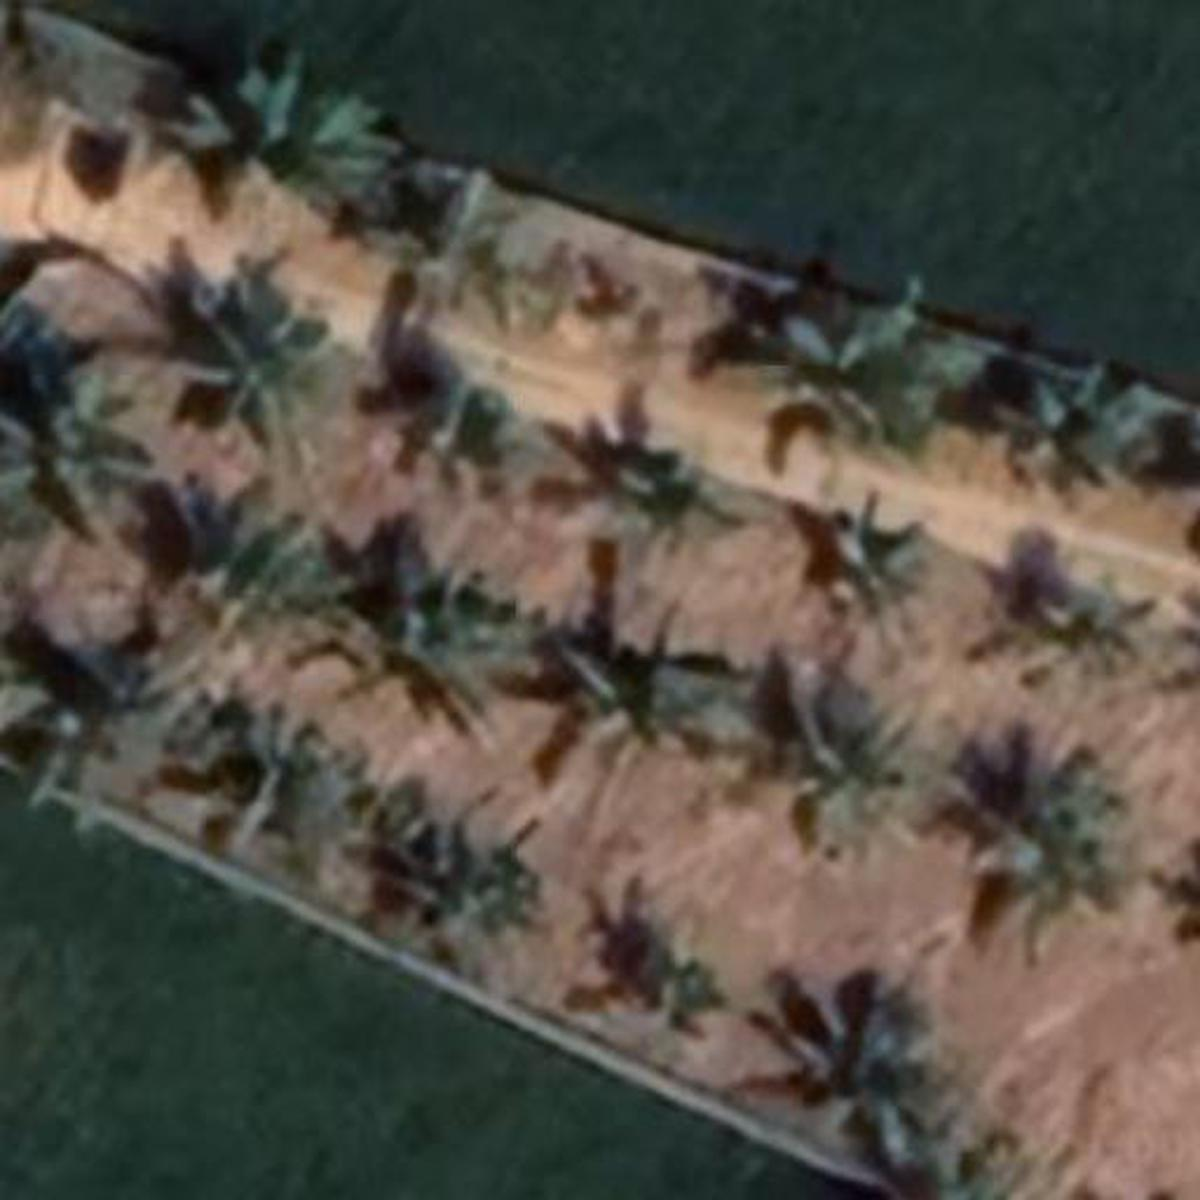coconut: (164, 44, 407, 236), (192, 682, 389, 900), (142, 262, 353, 454), (2, 616, 175, 836), (958, 766, 1132, 963), (757, 646, 925, 841), (785, 1016, 984, 1174), (778, 281, 951, 462), (180, 478, 349, 656), (382, 564, 548, 733), (2, 356, 145, 543), (548, 623, 724, 775), (379, 185, 557, 327), (1007, 337, 1167, 496), (1014, 543, 1164, 703), (569, 424, 735, 562), (389, 346, 532, 505), (412, 816, 546, 967), (829, 495, 956, 642), (646, 937, 745, 1040)
